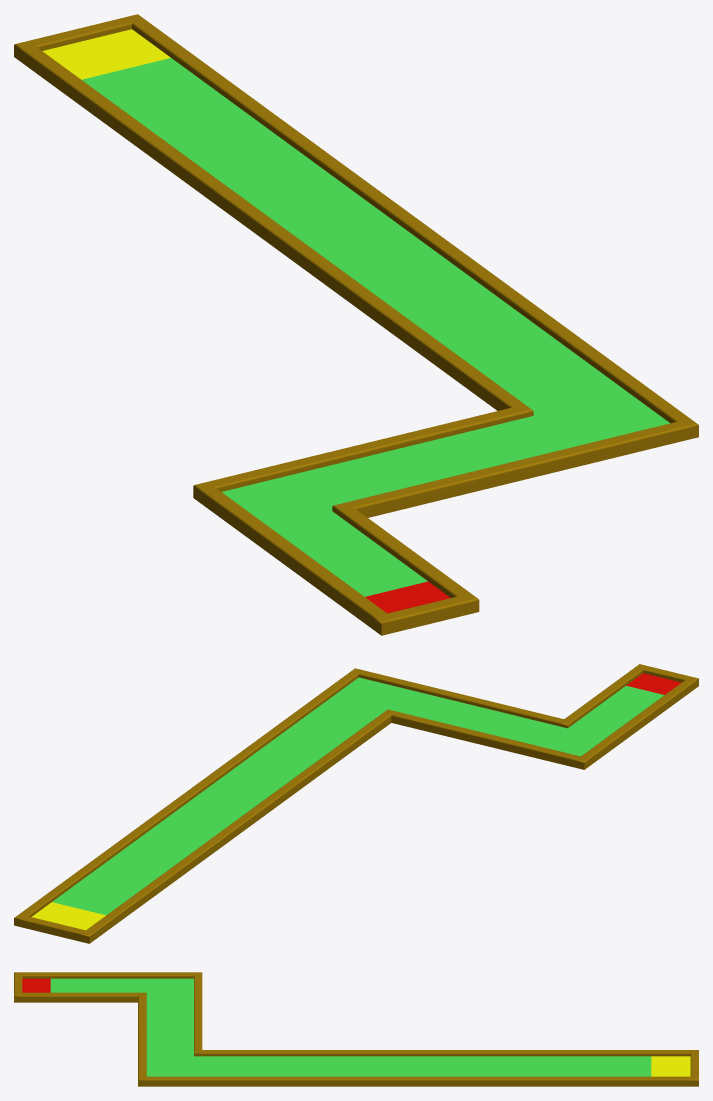
File: Parcours.fbx
The picture shows the model from 3 angles, top to bottom: view 1: azimuth 30°, elevation 25°; view 2: azimuth 150°, elevation 25°; view 3: azimuth 270°, elevation 25°; orthographic projection. The views are drawn at different scales.
Visible parts, largest first — view 1: Cube.011, Cube.009, Cube.012, Cube.010, Cube.008, Cube.003, Cube.007, Cube.004, Cube.013, Cube.005, Cube.002, Cube.014 (+3 smaller); view 2: Cube.011, Cube.009, Cube.012, Cube.010, Cube.007, Cube.003, Cube.008, Cube.004, Cube.005, Cube.013, Cube.015, Cube.002 (+3 smaller); view 3: Cube.011, Cube.010, Cube.009, Cube.012, Cube.003, Cube.002, Cube.004, Cube.013, Cube.005, Cube.008, Cube.007, Cube.001 (+3 smaller).
Part boxes in pixels (x1,y1,x2,y2): Cube.011: (81, 58, 627, 415); Cube.009: (285, 392, 669, 510); Cube.012: (22, 46, 533, 419); Cube.010: (132, 20, 698, 440); Cube.008: (332, 422, 684, 517); Cube.003: (277, 517, 427, 596); Cube.007: (193, 407, 518, 503); Cube.004: (222, 476, 340, 532); Cube.013: (42, 29, 170, 79); Cube.005: (257, 528, 386, 629); Cube.002: (340, 508, 469, 597); Cube.014: (373, 592, 479, 635); Cube.011: (52, 698, 384, 915); Cube.009: (330, 677, 567, 746); Cube.012: (86, 709, 395, 939); Cube.010: (20, 668, 362, 916); Cube.007: (391, 711, 589, 769); Cube.003: (573, 685, 664, 733); Cube.008: (358, 670, 572, 728); Cube.004: (543, 724, 610, 756); Cube.005: (615, 680, 693, 740); Cube.013: (32, 902, 105, 930); Cube.015: (14, 914, 94, 943); Cube.002: (565, 667, 643, 724); Cube.011: (194, 1056, 651, 1076); Cube.010: (138, 1076, 690, 1086); Cube.009: (146, 995, 193, 1076); Cube.012: (194, 1049, 690, 1056); Cube.003: (50, 978, 137, 992); Cube.002: (22, 992, 137, 1002); Cube.004: (138, 978, 193, 995); Cube.013: (651, 1056, 690, 1076); Cube.005: (22, 972, 137, 978); Cube.008: (138, 992, 146, 1076); Cube.007: (194, 972, 202, 1049); Cube.001: (22, 978, 50, 992).
Size of the model in its own units: 1811 by 52.45 by 4866.
